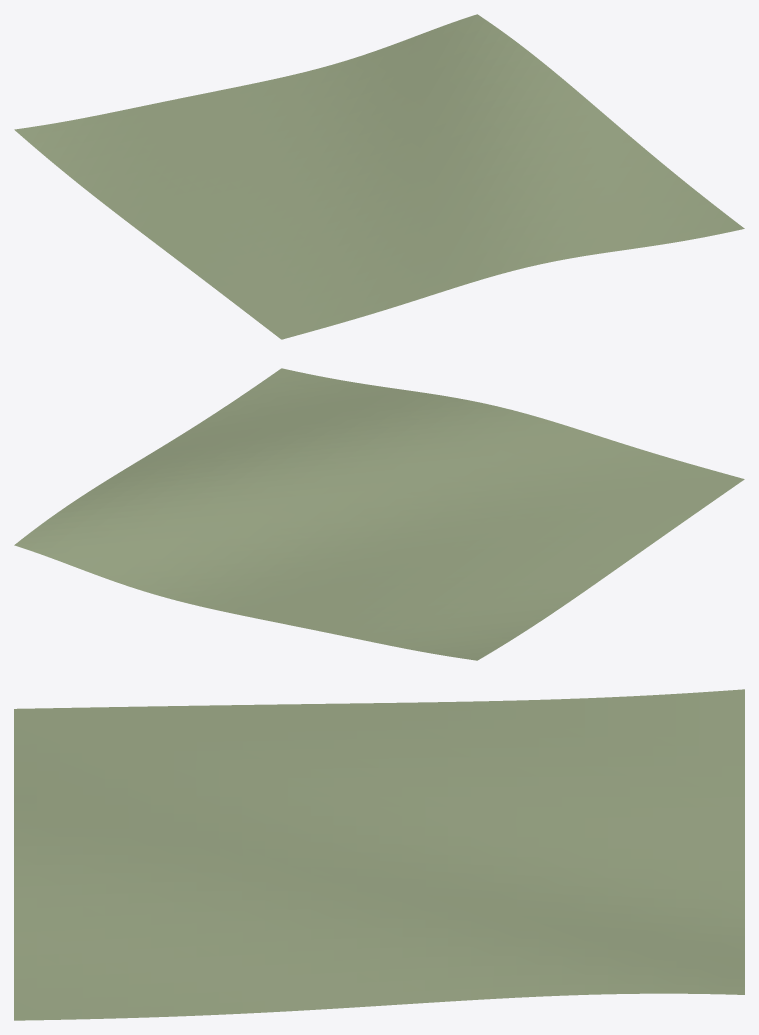
The model's file is desert-6-10.glb.
3 renders of one model, top to bottom at view 1: azimuth 30°, elevation 25°; view 2: azimuth 150°, elevation 25°; view 3: azimuth 270°, elevation 25°, orthographic. The views are drawn at different scales.
Visible parts, largest first — view 1: desert-6-10; view 2: desert-6-10; view 3: desert-6-10.
Boxes of the visible parts, <box> form: desert-6-10: <box>14,14,744,339</box>; desert-6-10: <box>14,368,744,660</box>; desert-6-10: <box>14,689,744,1020</box>.
Bounding box in the file's own units: 512 × 20.86 × 512.
